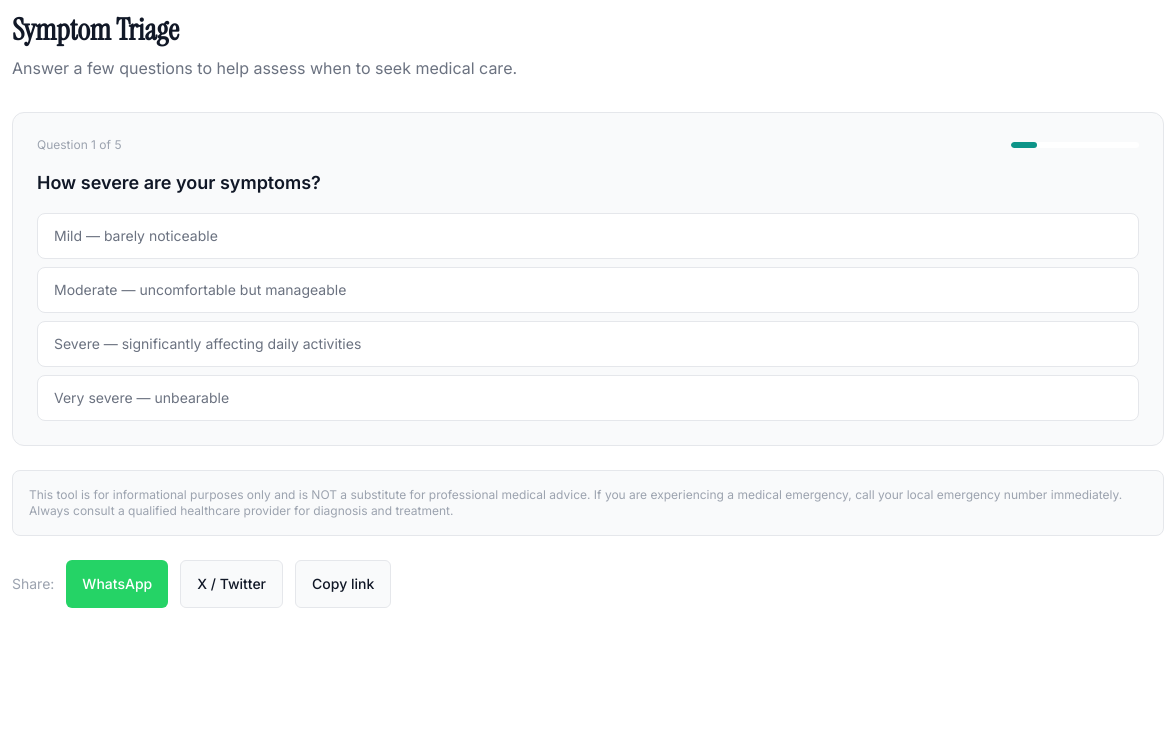
Test: SymptomTriage › shows result after all questions answered
// Answer all with lowest scores
Click the button "Mild — barely noticeable": (136, 236) [37,213,1139,259]
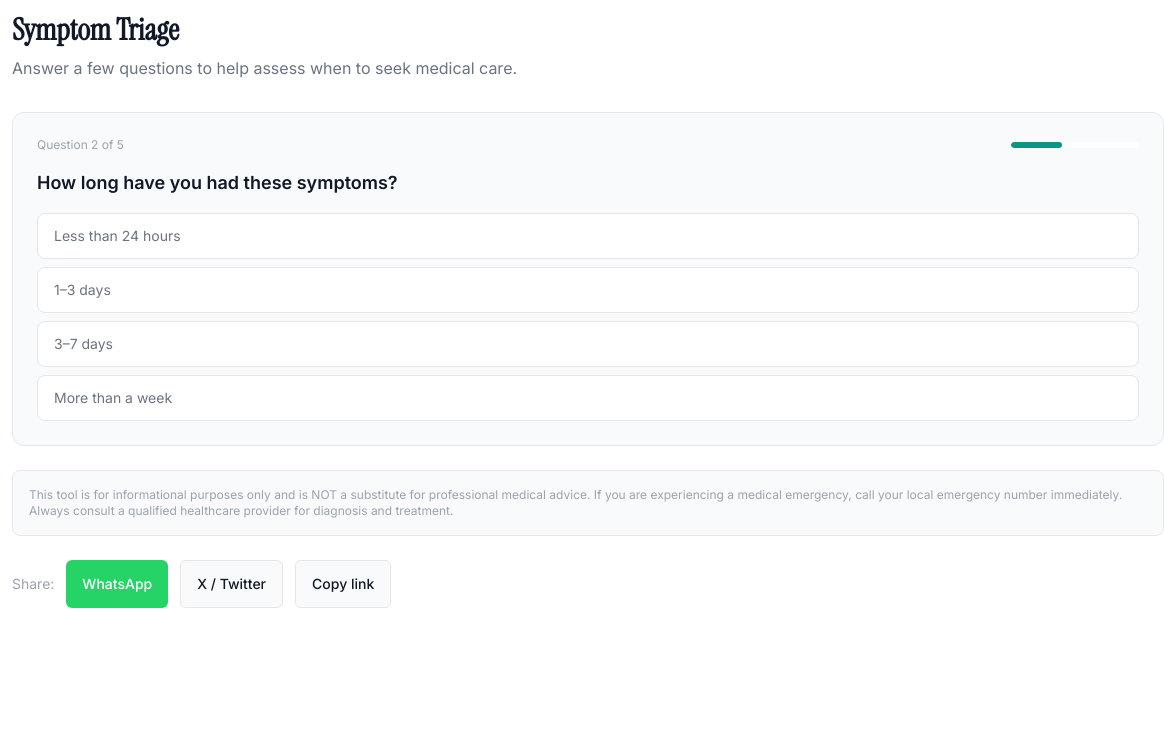
Click the button "Less than 24 hours": (117, 236) [37,213,1139,259]
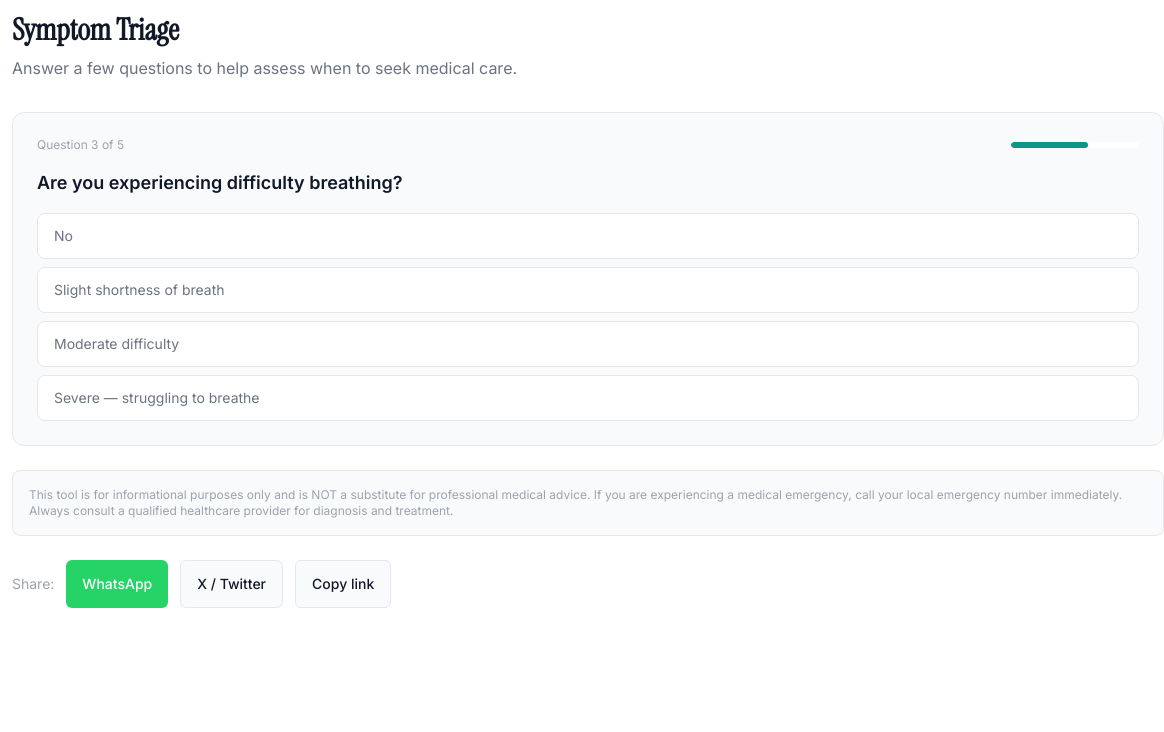
Click the button "No": (63, 236) [37,213,1139,259]
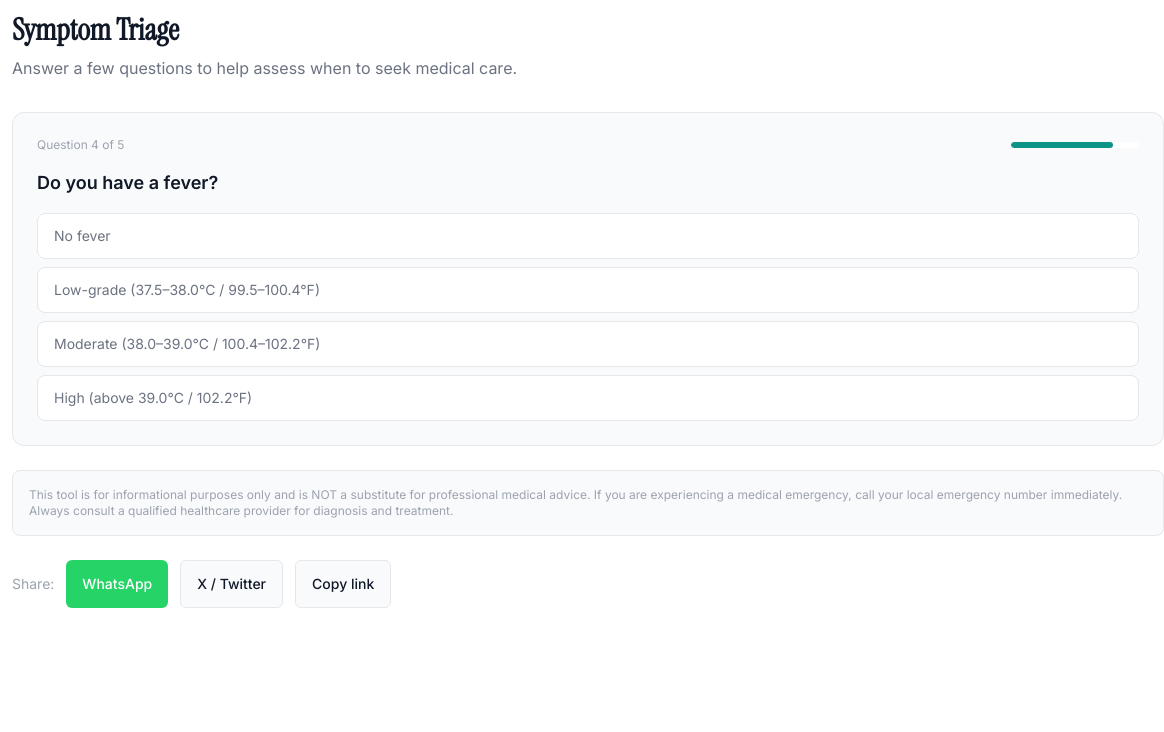
Click the button "No fever": (82, 236) [37,213,1139,259]
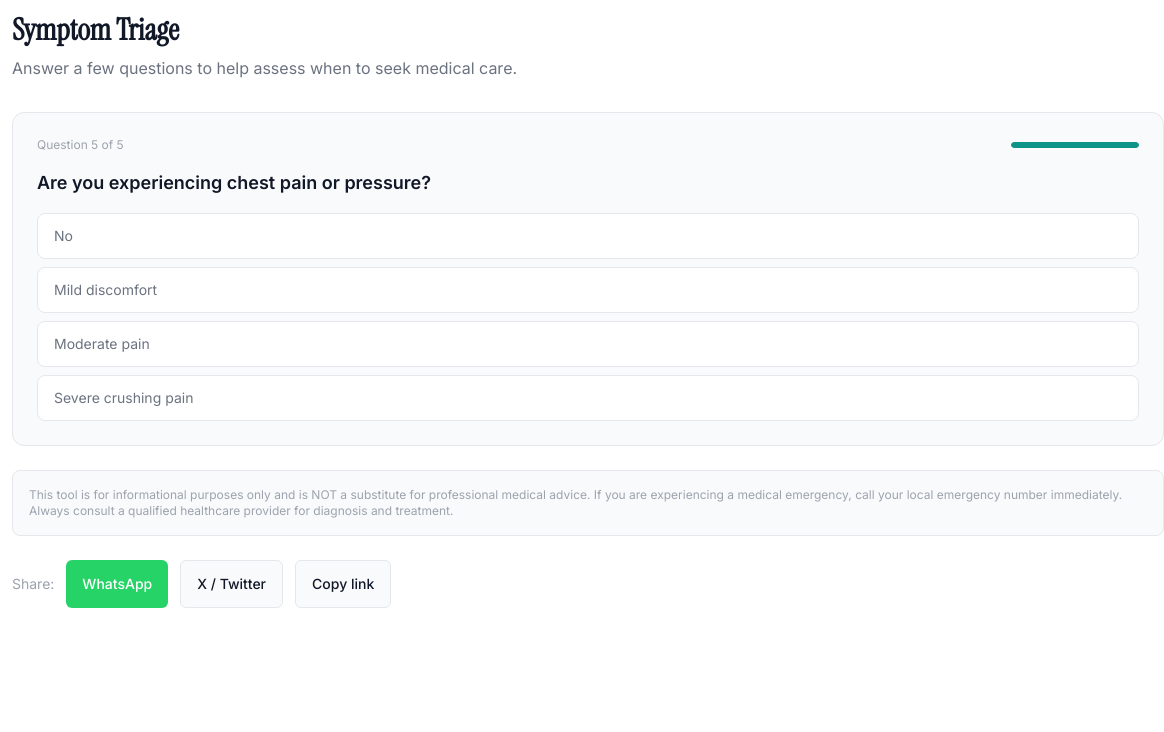
// Last question - need to click the "No" for chest pain
Click the button "No": (63, 236) [37,213,1139,259]
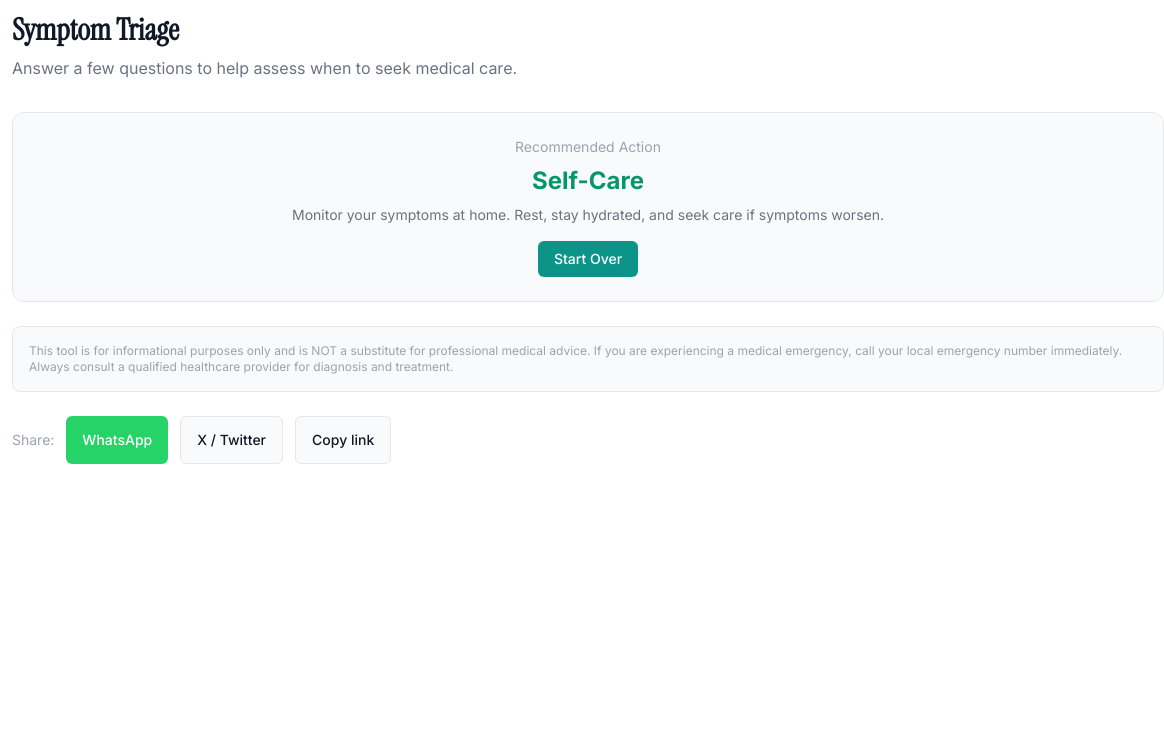
Expected: the text "Self-Care" is shown, [532,166,644,195]
Expected: the button "Start Over" is shown, [538,241,638,277]
